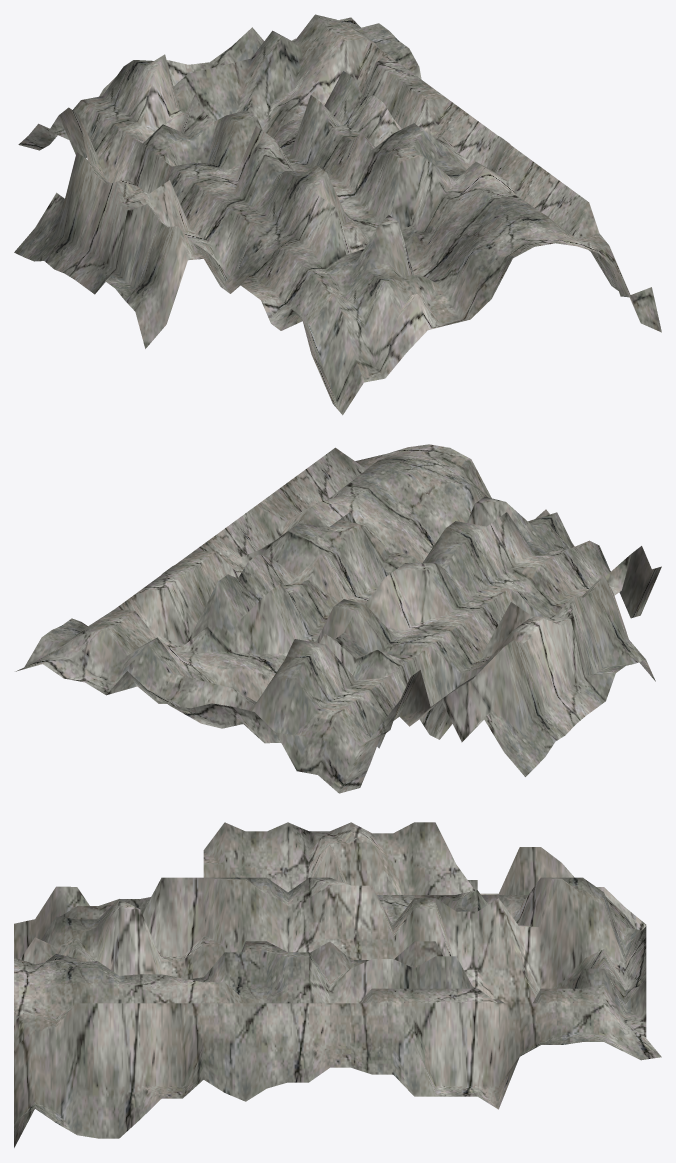
The model's file is DWARF_PALACE_ARKENSTONE_ROOM_CELLING.fbx.
The picture shows the model from 3 angles, top to bottom: view 1: azimuth 30°, elevation 25°; view 2: azimuth 150°, elevation 25°; view 3: azimuth 270°, elevation 25°; orthographic projection. The views are drawn at different scales.
Parts seen in each view (by area): view 1: DWARF_PALACE_ARKENSTONE_ROOM_CELLING; view 2: DWARF_PALACE_ARKENSTONE_ROOM_CELLING; view 3: DWARF_PALACE_ARKENSTONE_ROOM_CELLING.
Part boxes in pixels (x1,y1,x2,y2): DWARF_PALACE_ARKENSTONE_ROOM_CELLING: [14, 14, 661, 415]; DWARF_PALACE_ARKENSTONE_ROOM_CELLING: [15, 444, 661, 793]; DWARF_PALACE_ARKENSTONE_ROOM_CELLING: [14, 822, 661, 1147].
Size of the model in its own units: 378718 by 125975 by 479030.
1 material, 1 textured.
